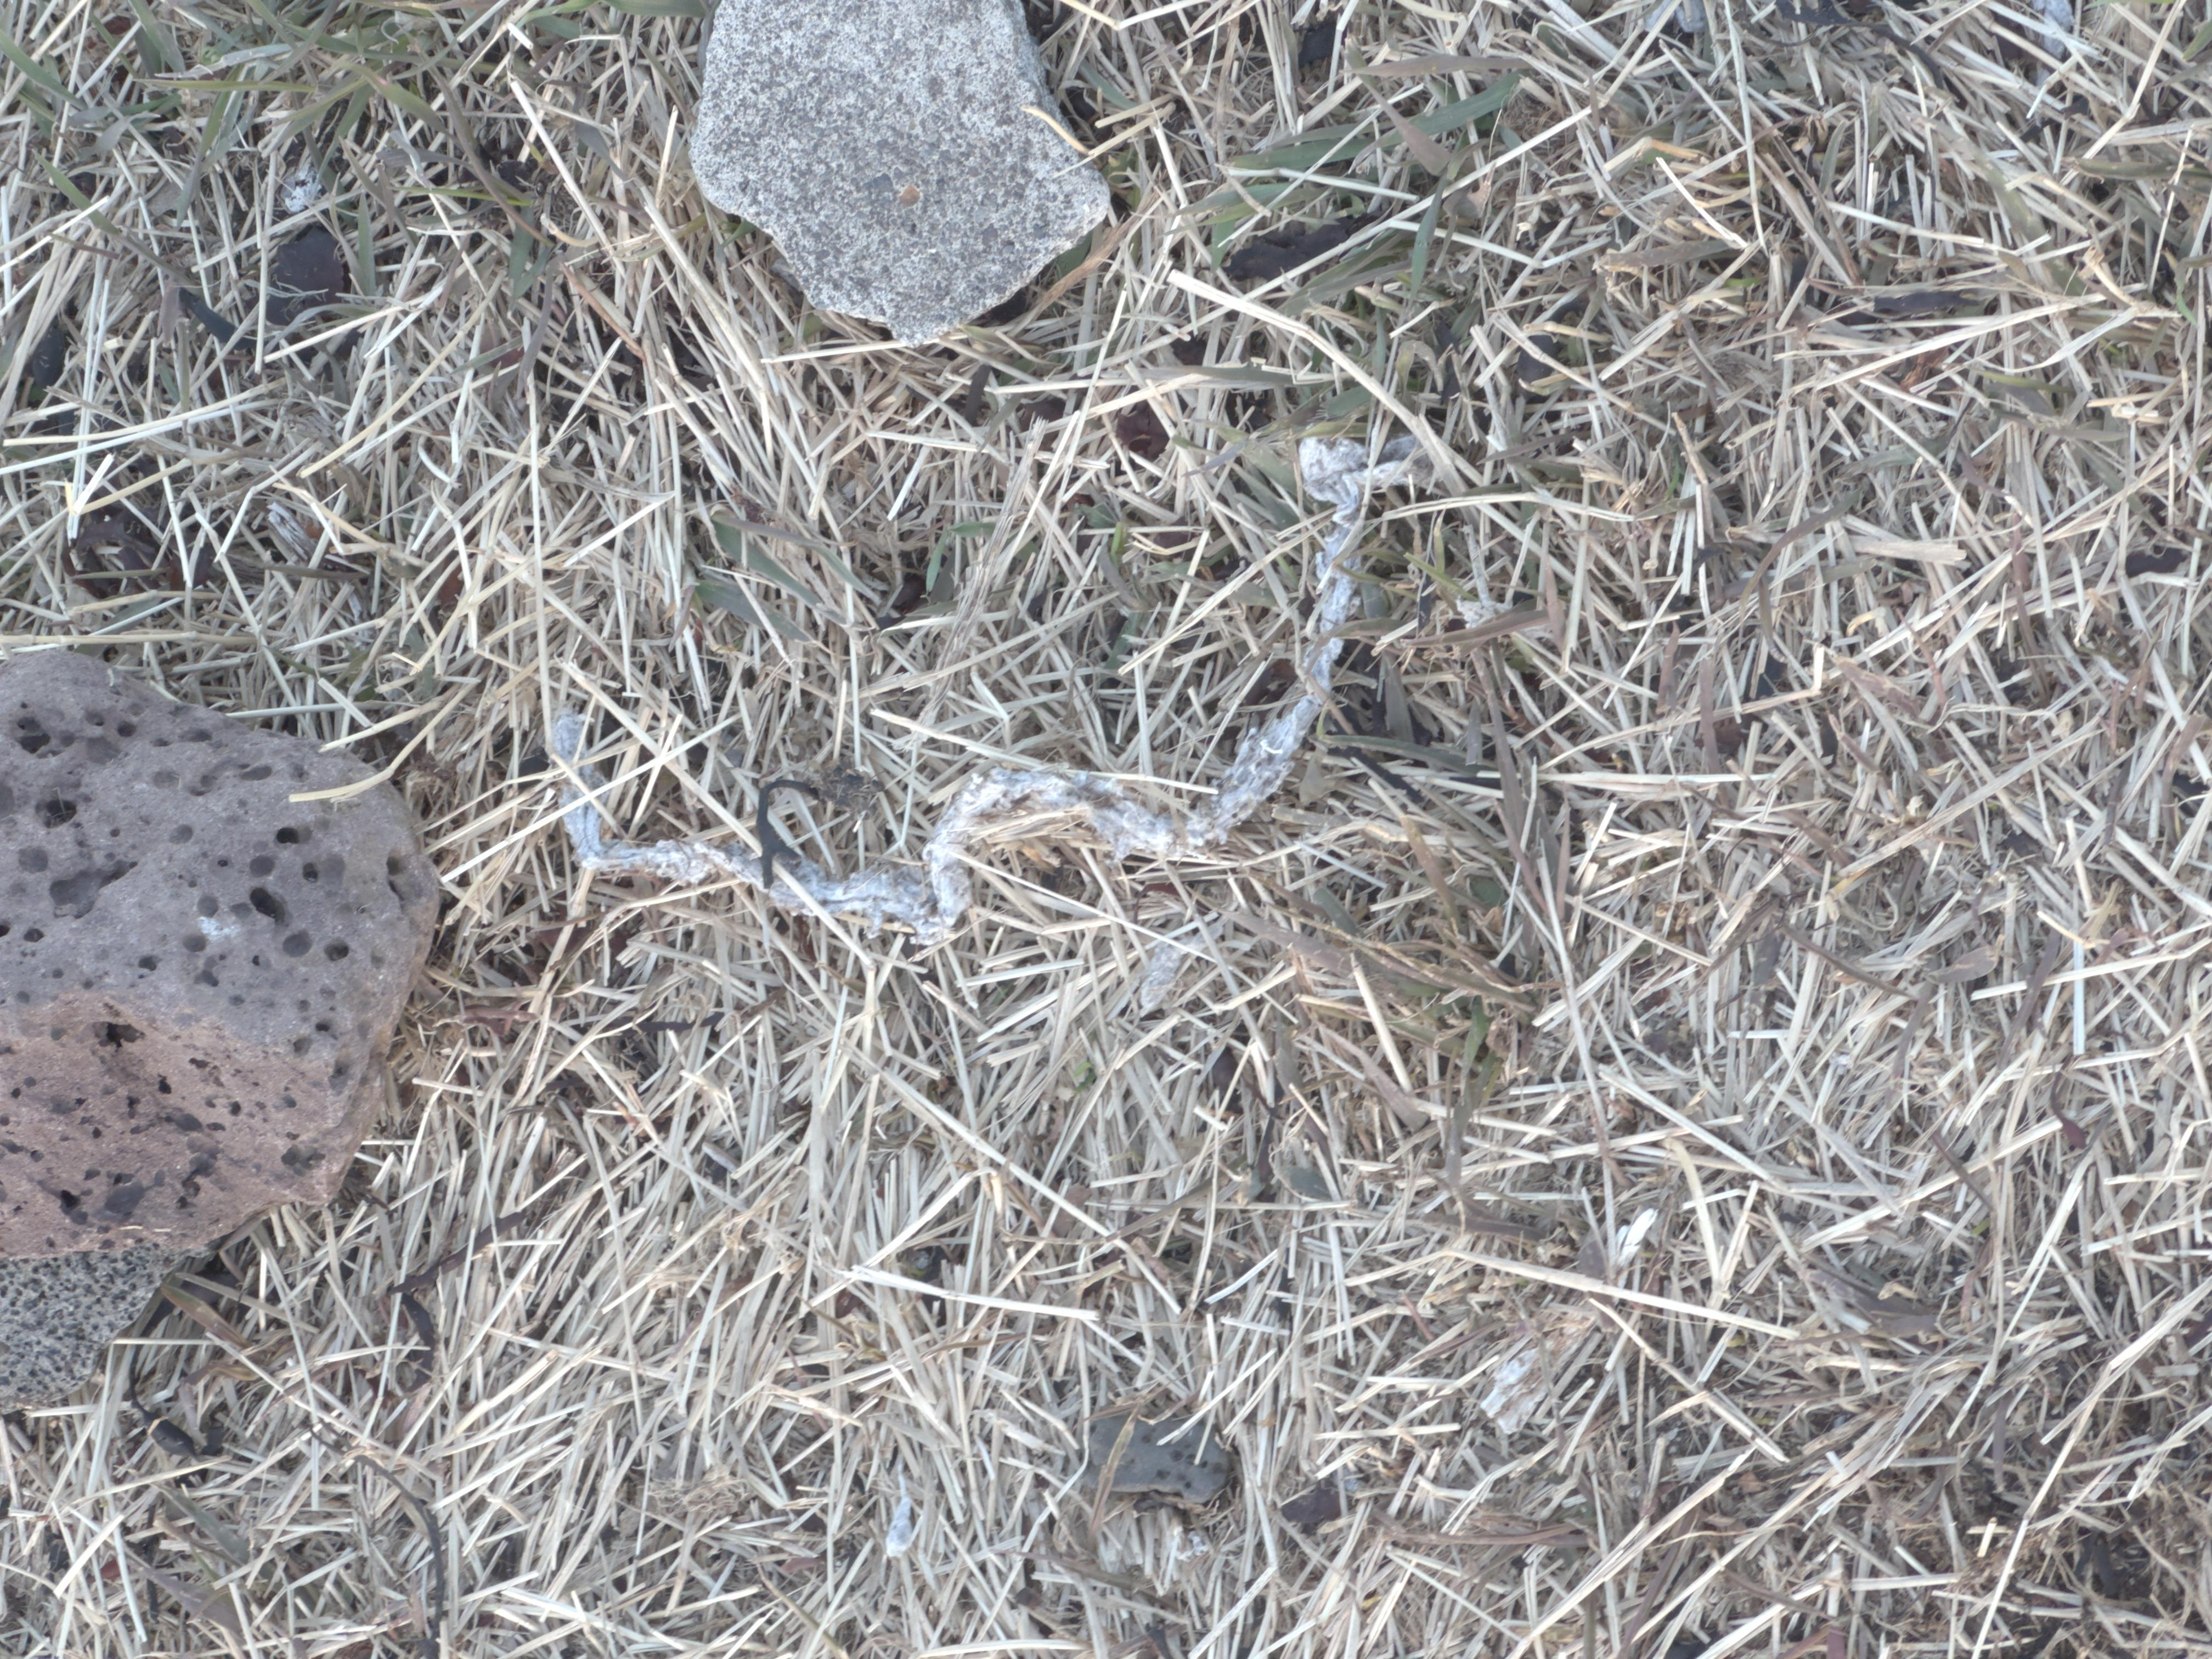trash: (549, 436, 1413, 946)
